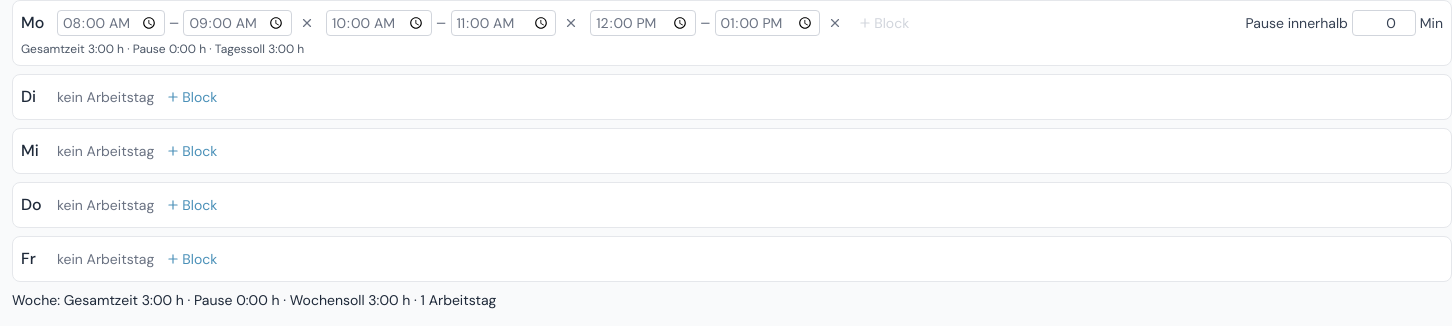
Scenario: WorkBlocksEditor (Spec 12.1) › Entfernen trifft genau die Zeile, nicht den letzten Block (Review Task 17)
The width and height of the screenshot is (1452, 326).
Click the button named "Mo Block 2 entfernen". click: (571,23)
box: [560,12,582,34]
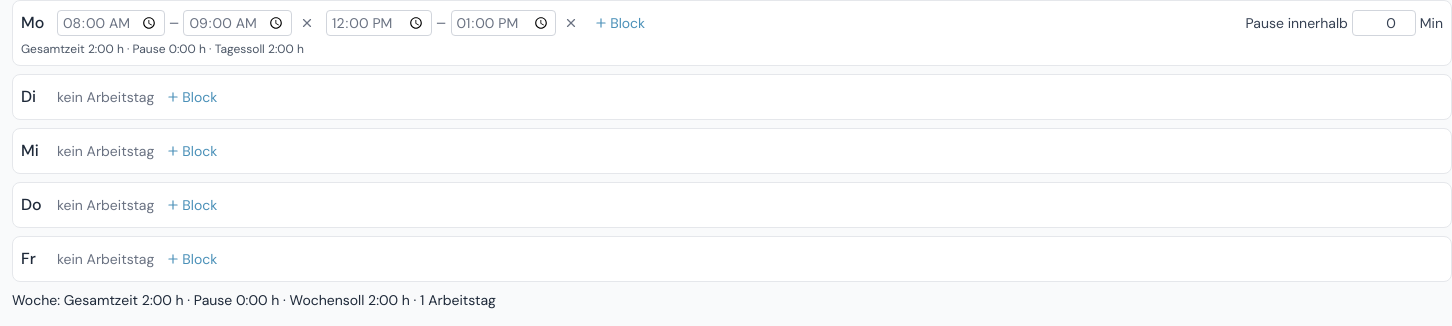
Now the time field named "Mo Block 2 von" holds "12:00", box [326,10,432,36]
Now the time field named "Mo Block 2 bis" holds "13:00", box [450,10,556,36]
Now the text with test id "t-day-0" shows "Tagessoll 2:00 h", box [21,41,304,57]
